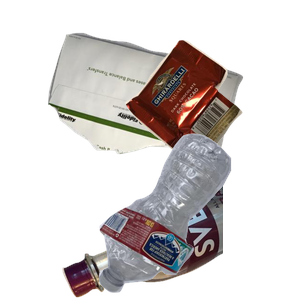glass: (60, 180, 300, 300)
paper: (45, 30, 281, 195)
plastic: (96, 131, 300, 300)
trash: (123, 37, 300, 192)
